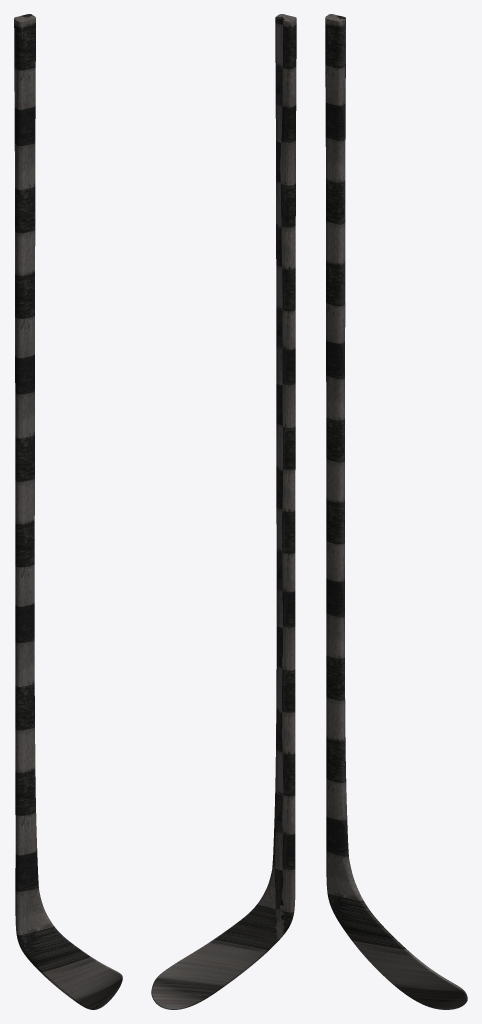
The model's file is P38-SBO.glb.
The picture shows the model from 3 angles, left to right: view 1: azimuth 30°, elevation 25°; view 2: azimuth 150°, elevation 25°; view 3: azimuth 330°, elevation 25°; orthographic projection. The views are drawn at different scales.
Parts seen in each view (by area): view 1: geometry_0; view 2: geometry_0; view 3: geometry_0.
Boxes of the visible parts, left/top/right/bottom form: geometry_0: left=14, top=14, right=122, bottom=1009; geometry_0: left=151, top=14, right=296, bottom=1009; geometry_0: left=325, top=14, right=467, bottom=1009.
Bounding box in the file's own units: 212 × 1650 × 76.85.
Materials: 1 (1 with a texture image).
